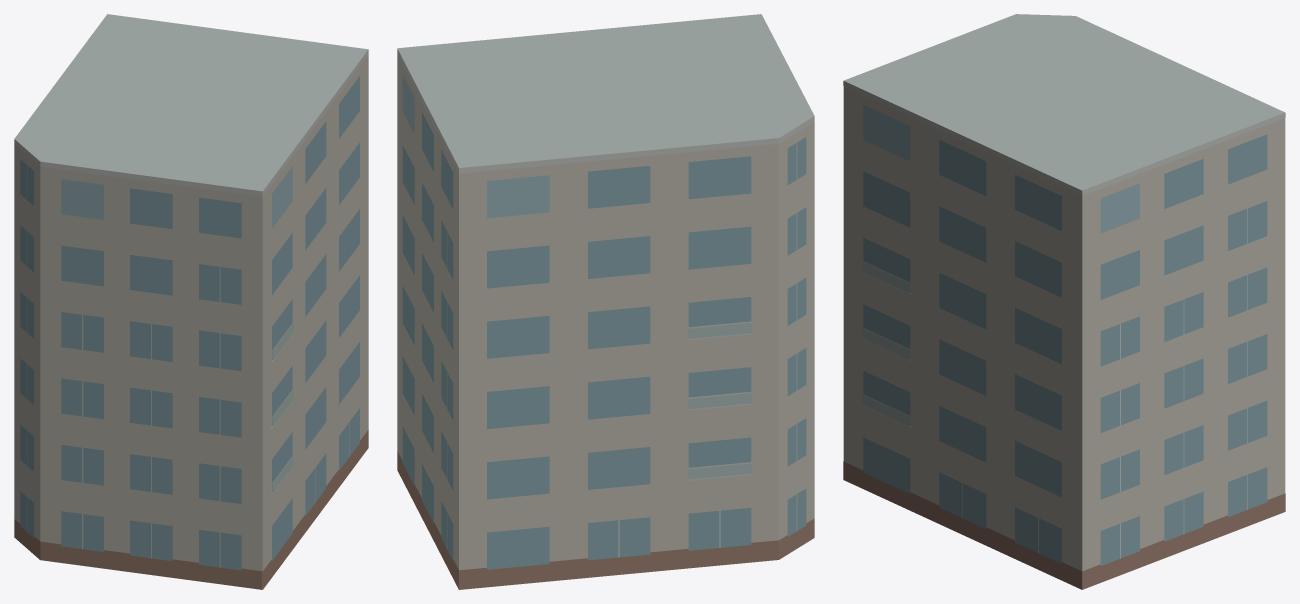
Rendered from survey-upis-32833077.glb.
3 views of the same model, side by side, from view 1: azimuth 30°, elevation 25°; view 2: azimuth 150°, elevation 25°; view 3: azimuth 270°, elevation 25° (orthographic). The views are drawn at different scales.
Parts seen in each view (by area): view 1: survey-upis-32833077.tmp; view 2: survey-upis-32833077.tmp; view 3: survey-upis-32833077.tmp.
Part boxes in pixels (x1,y1,x2,y2): survey-upis-32833077.tmp: (14, 14, 368, 589); survey-upis-32833077.tmp: (397, 14, 814, 589); survey-upis-32833077.tmp: (843, 14, 1285, 589).
Size of the model in its own units: 17.37 by 18.3 by 18.37.
